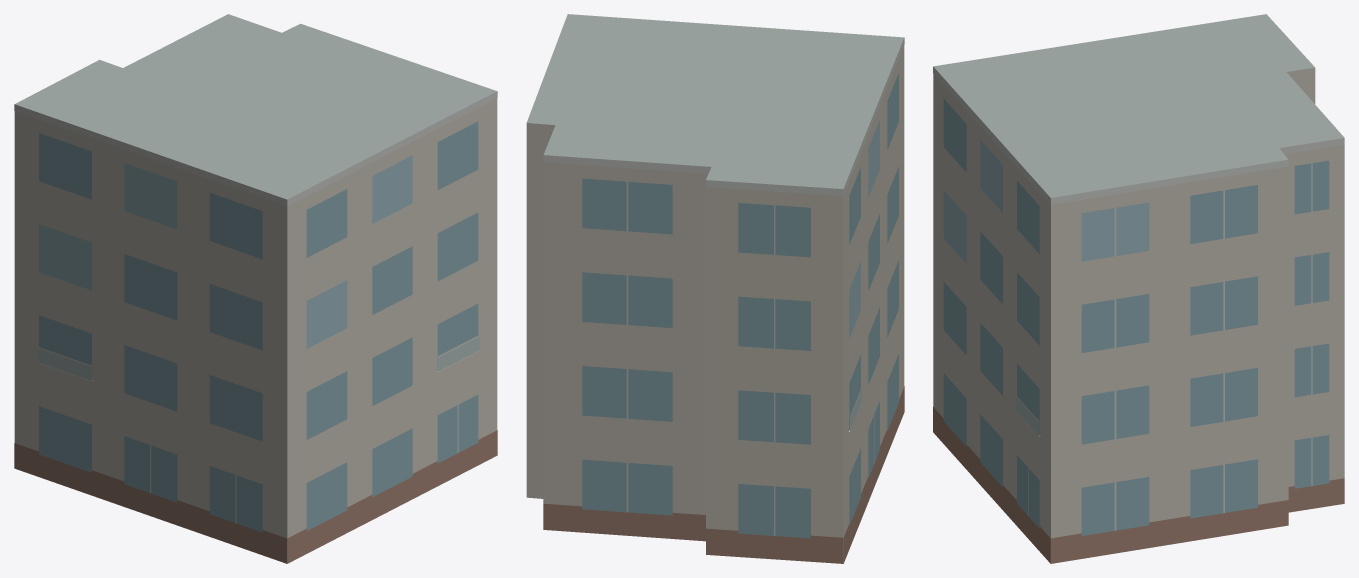
File: survey-upis-32742384.glb
The picture shows the model from 3 angles, left to right: view 1: azimuth 30°, elevation 25°; view 2: azimuth 150°, elevation 25°; view 3: azimuth 270°, elevation 25°; orthographic projection. The views are drawn at different scales.
Visible parts, largest first — view 1: survey-upis-32742384.tmp; view 2: survey-upis-32742384.tmp; view 3: survey-upis-32742384.tmp.
Part boxes in pixels (x1,y1,x2,y2): survey-upis-32742384.tmp: (14, 14, 497, 563); survey-upis-32742384.tmp: (526, 14, 904, 563); survey-upis-32742384.tmp: (933, 14, 1344, 563).
Bounding box in the file's own units: 13.98 × 12.95 × 13.21.
